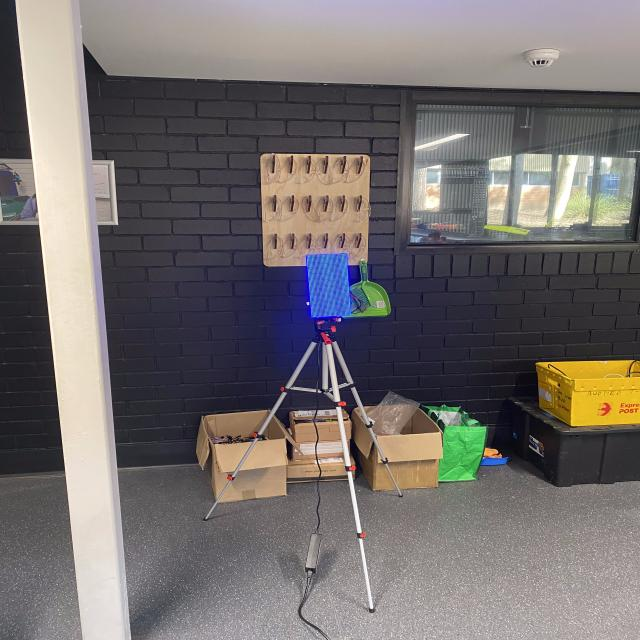matrix: (297, 246, 364, 325)
